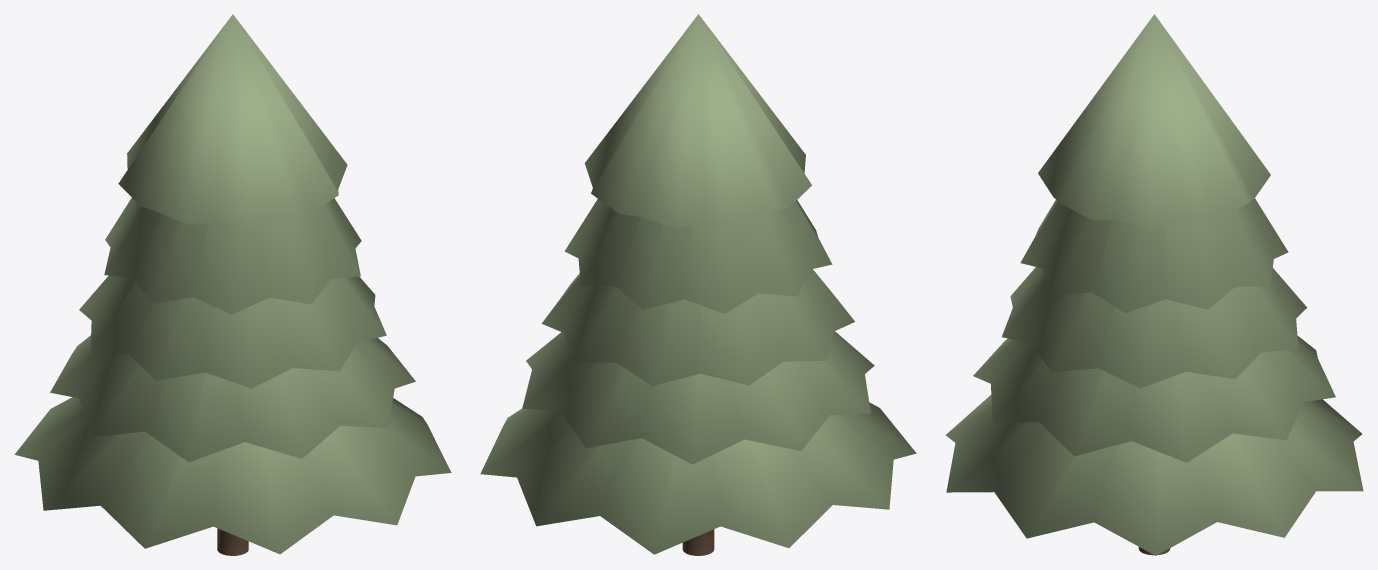
File: Tree2Exp.fbx
The picture shows the model from 3 angles, left to right: view 1: azimuth 30°, elevation 25°; view 2: azimuth 150°, elevation 25°; view 3: azimuth 270°, elevation 25°; orthographic projection.
Parts seen in each view (by area): view 1: pCylinder1; view 2: pCylinder1; view 3: pCylinder1.
Boxes of the visible parts, x1=… form: pCylinder1: x1=14, y1=14, x2=451, y2=555; pCylinder1: x1=480, y1=14, x2=916, y2=555; pCylinder1: x1=945, y1=14, x2=1363, y2=555.
Size of the model in its own units: 10.25 by 13.79 by 9.77.
